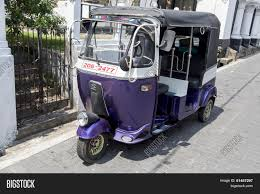tuk tuk: (76, 5, 222, 165)
